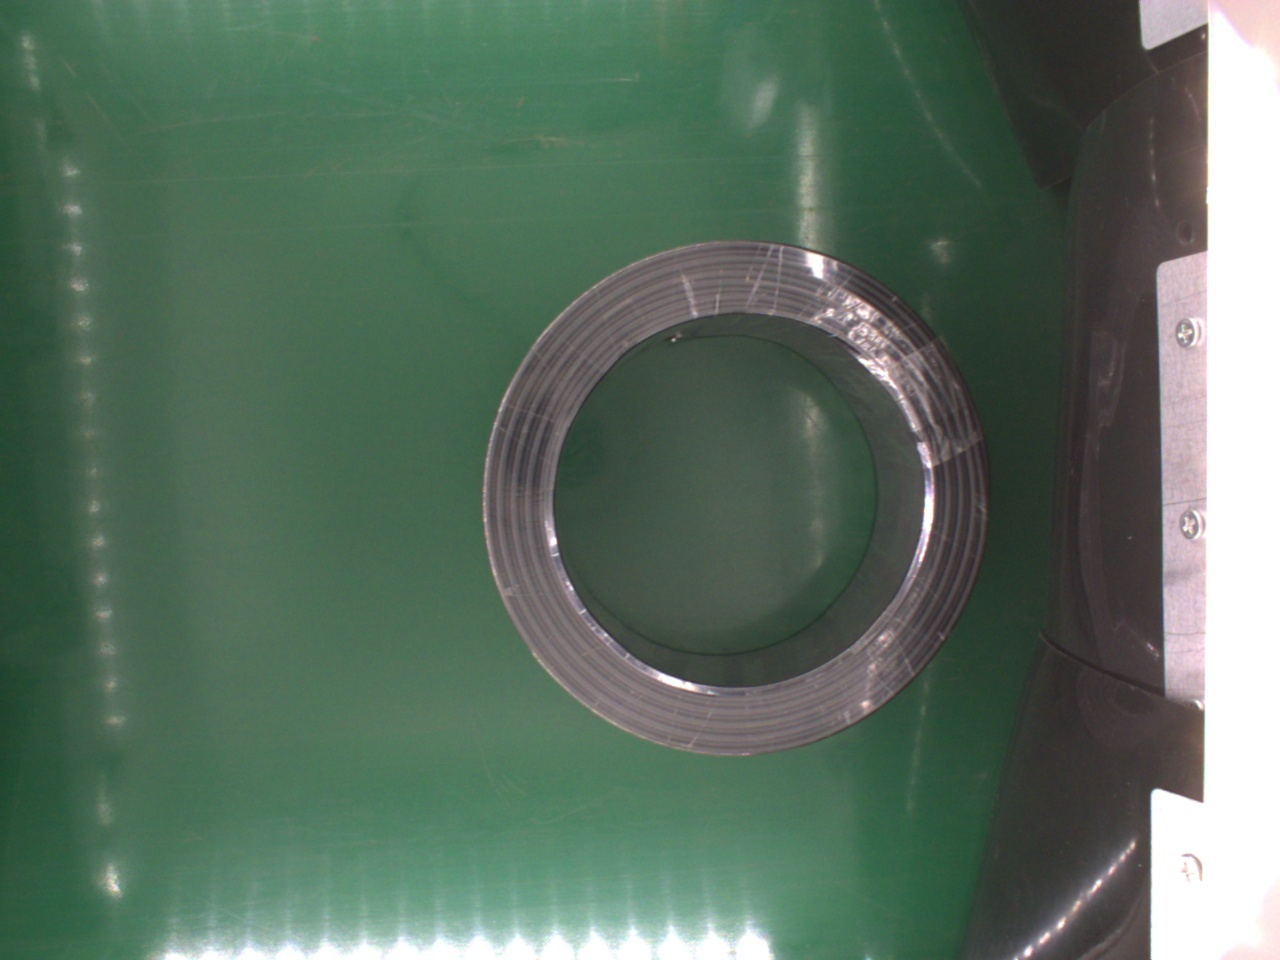black: (476, 238, 988, 754)
